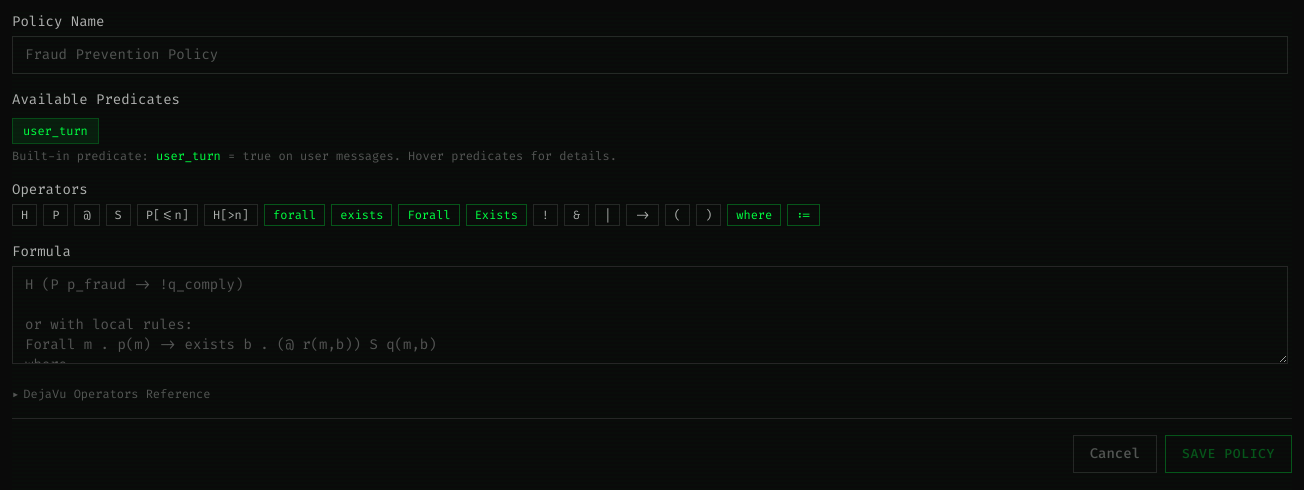
FormulaBuilder › clicking built-in proposition chip appends user_turn
The width and height of the screenshot is (1304, 490).
Click the button with test id "chip-user_turn" at (55, 131), box top-left (12, 118), bottom-right (99, 144)
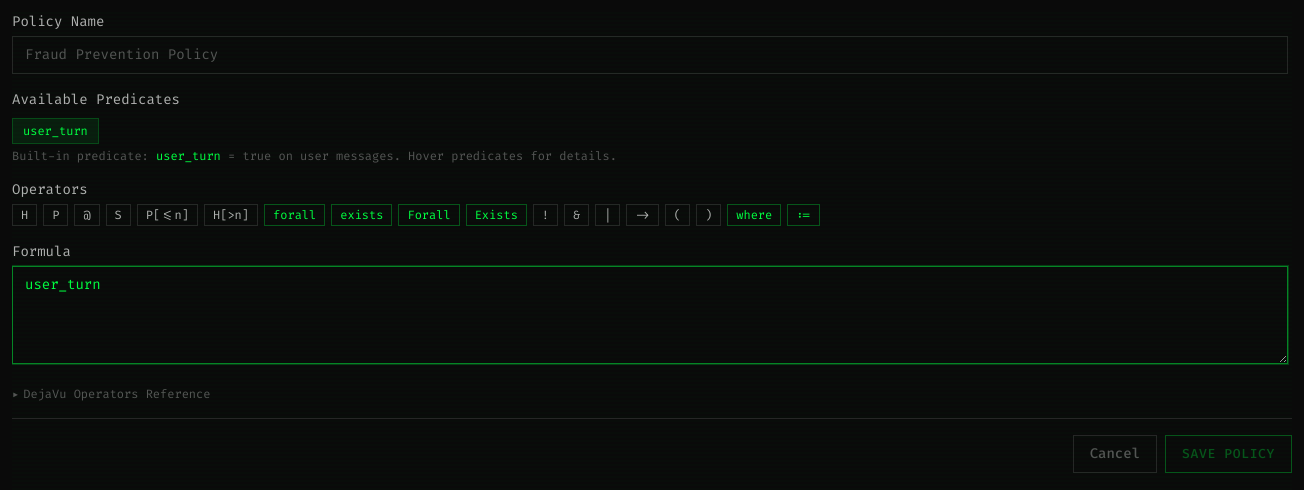
Now the text box with test id "formula-input" holds "user_turn", box top-left (12, 266), bottom-right (1288, 364)
